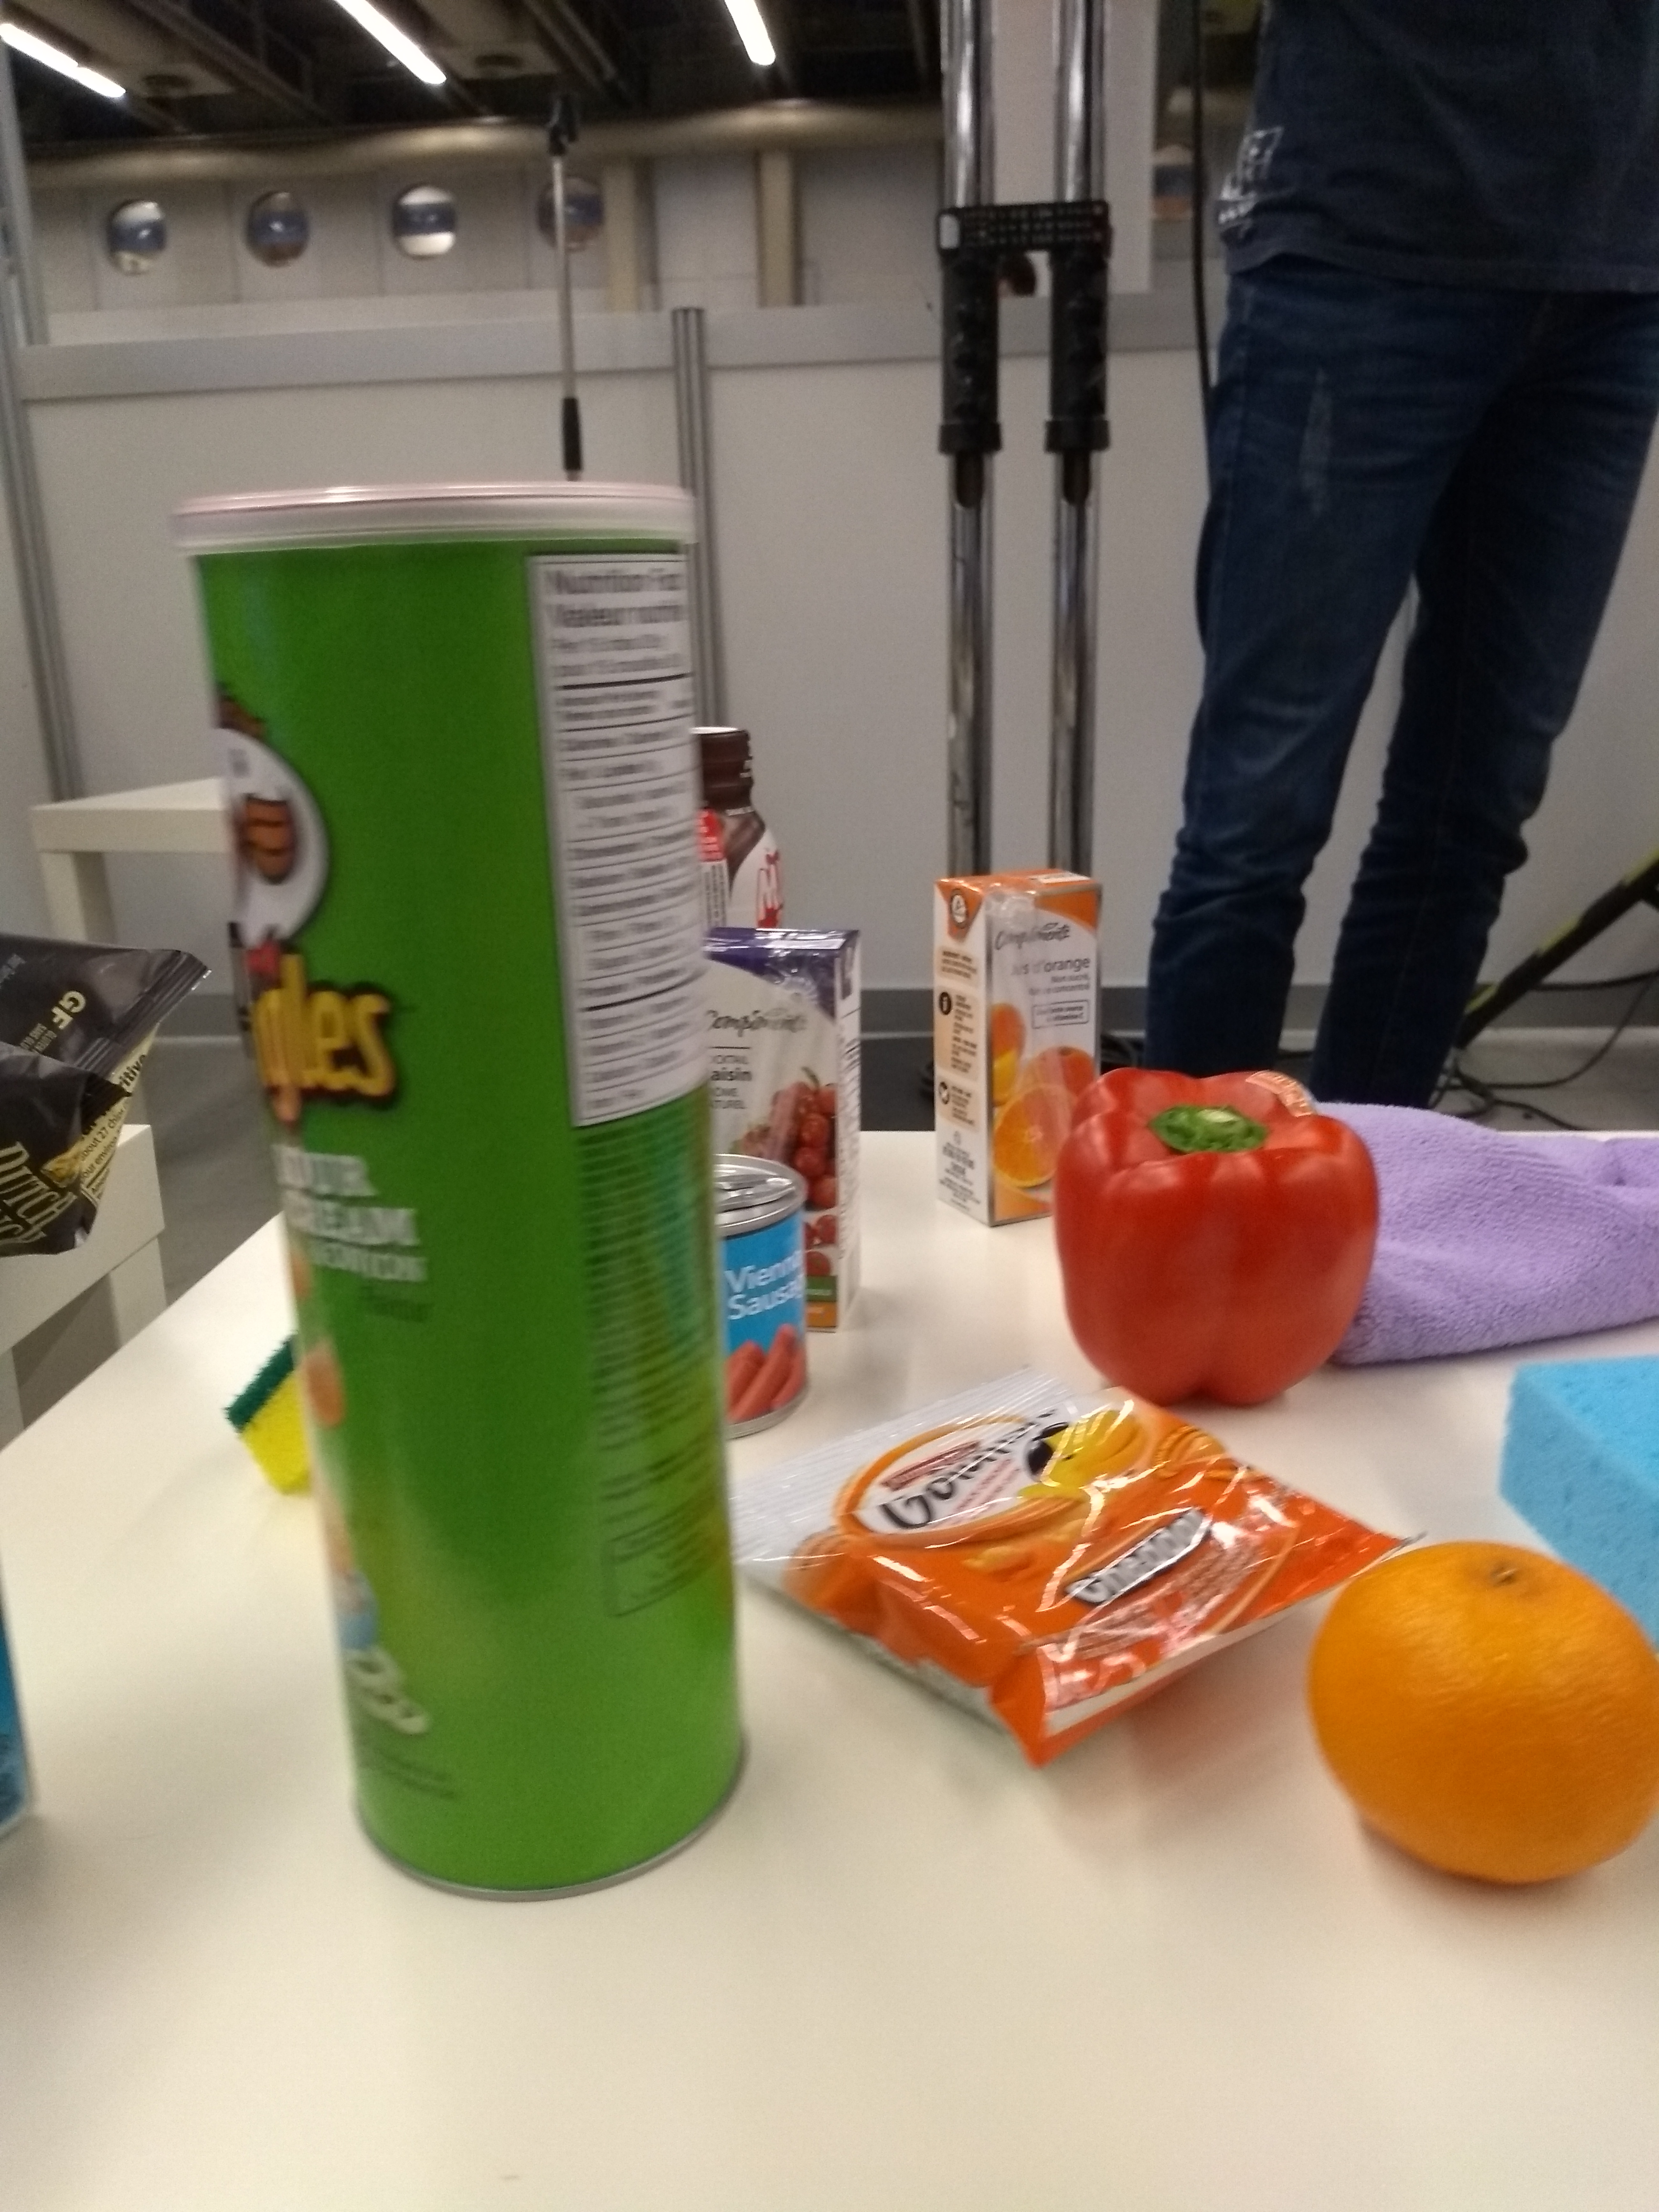chocolate_drink: (697, 721, 788, 946)
cloth_opl: (1338, 1078, 1659, 1374)
crackers: (762, 1388, 1330, 1743)
grape_juice: (713, 914, 878, 1322)
orange: (1298, 1524, 1659, 1916)
orange_juice: (925, 859, 1112, 1216)
paprika: (1046, 1062, 1366, 1426)
pringles: (173, 463, 756, 1904)
sausages: (704, 1148, 819, 1430)
sponge_opl: (1493, 1353, 1659, 1625)
